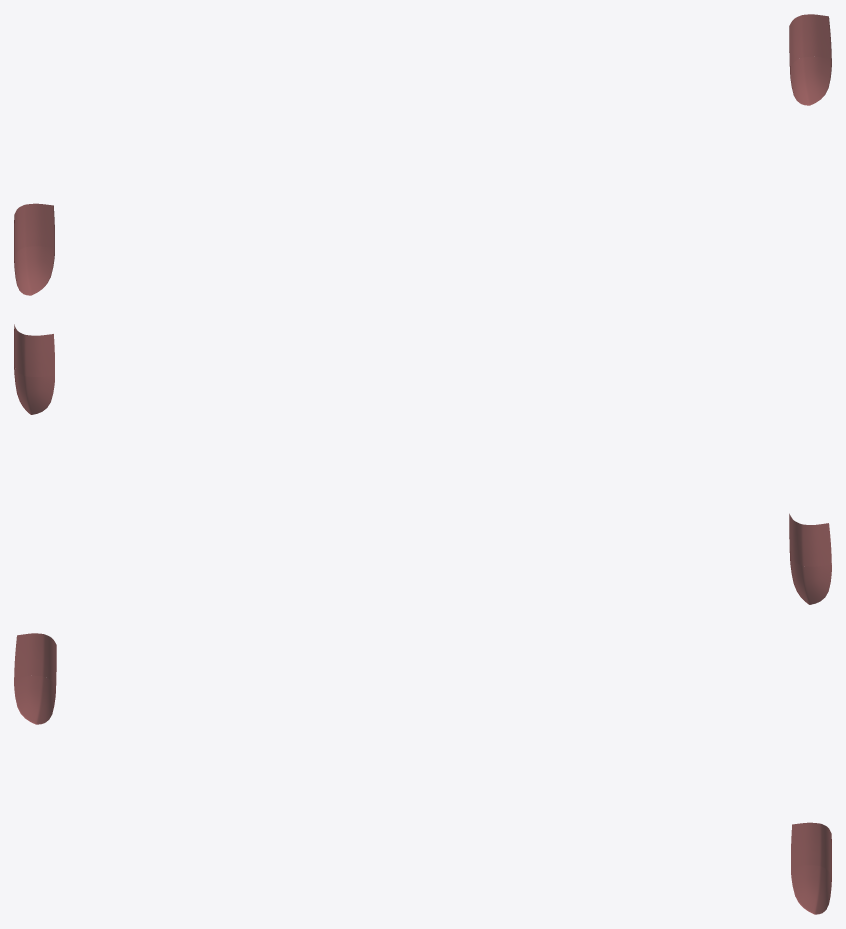
Rendered from r_glass_01.fbx.
3 views of the same model, one above another, from view 1: azimuth 30°, elevation 25°; view 2: azimuth 150°, elevation 25°; view 3: azimuth 330°, elevation 25° (orthographic).
Parts seen in each view (by area): view 1: r_glass_01; view 2: r_glass_01; view 3: r_glass_01.
Boxes of the visible parts, bbox=[...] form: r_glass_01: bbox=[14, 14, 831, 295]; r_glass_01: bbox=[14, 324, 831, 604]; r_glass_01: bbox=[14, 633, 831, 914].
Size of the model in its own units: 364 by 36.31 by 7.54.
